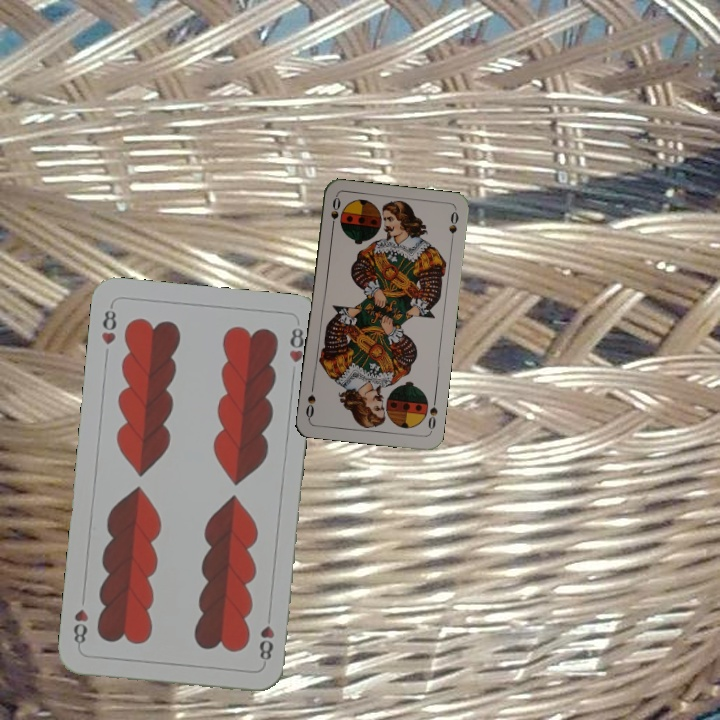H8: (97, 301, 119, 347), (255, 622, 277, 667)
SO: (327, 193, 343, 234), (424, 394, 440, 435)
